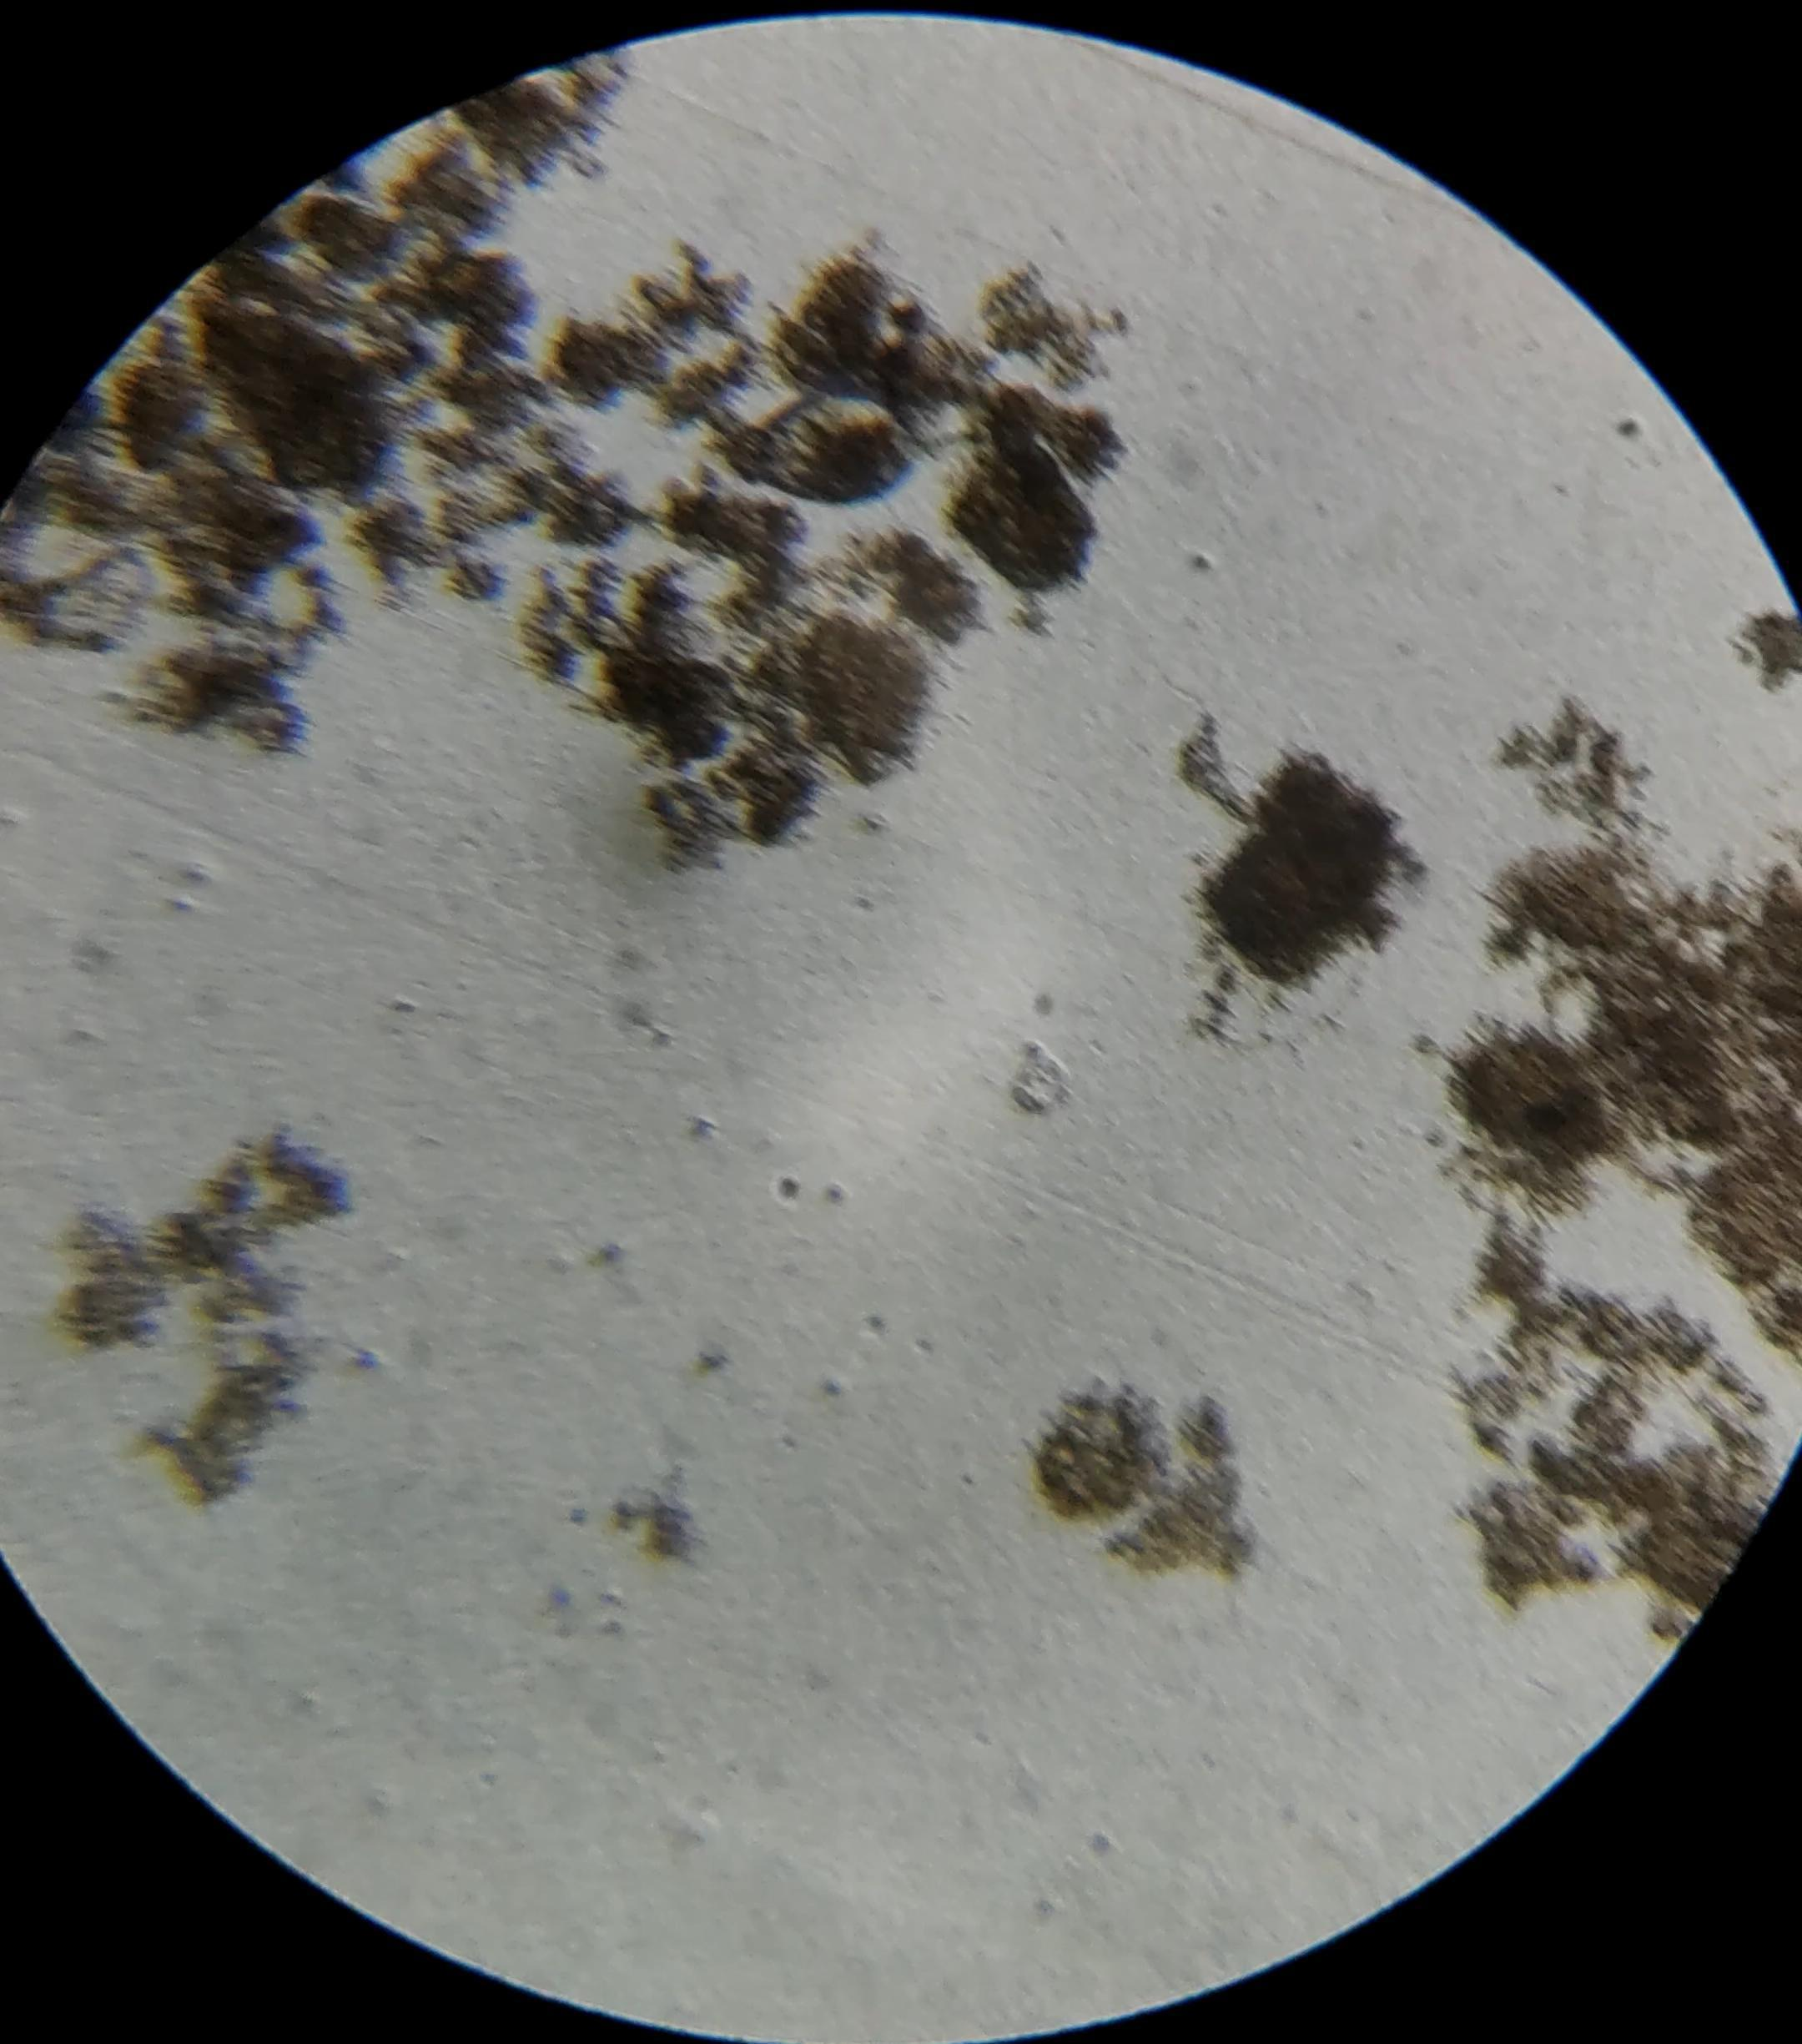Mo: (732, 390, 988, 506)
